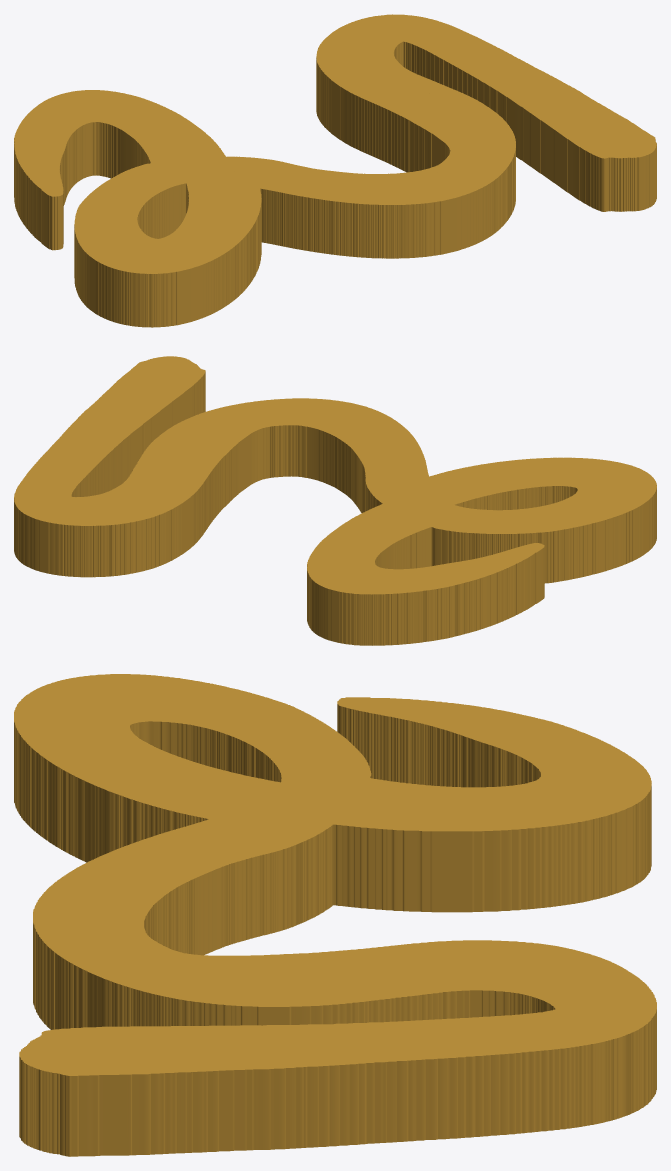
3 renders of one model, top to bottom at view 1: azimuth 30°, elevation 25°; view 2: azimuth 150°, elevation 25°; view 3: azimuth 270°, elevation 25°, orthographic. The views are drawn at different scales.
Visible parts, largest first — view 1: Curve.007; view 2: Curve.007; view 3: Curve.007.
Part boxes in pixels (x1,y1,x2,y2): Curve.007: [14, 14, 656, 327]; Curve.007: [14, 356, 656, 645]; Curve.007: [14, 674, 656, 1156].
Size of the model in its own units: 103 by 9.67 by 69.76.
